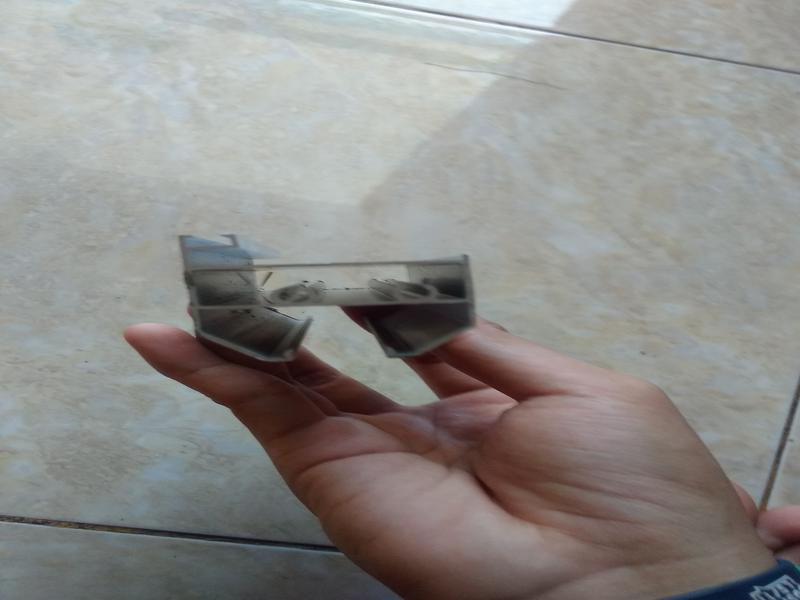Aluminium_3: (154, 206, 497, 383)
